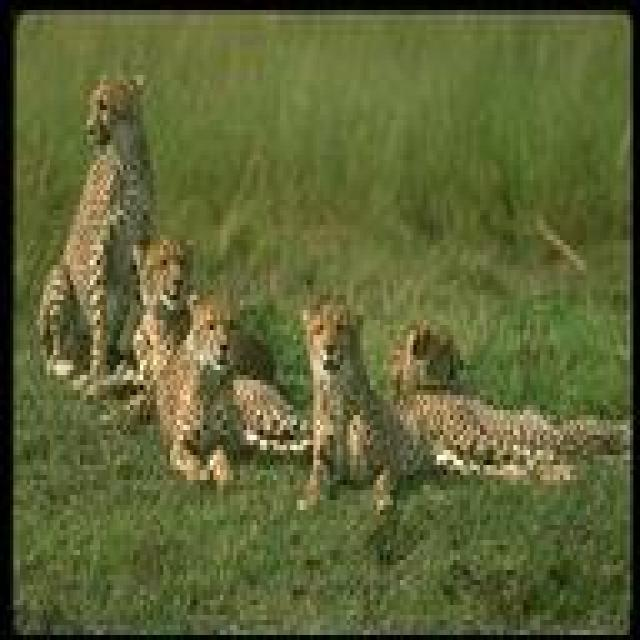Leopard: (297, 295, 487, 508)
